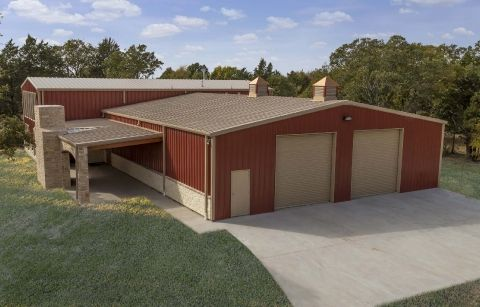Tin-shade House: (16, 62, 455, 222)
